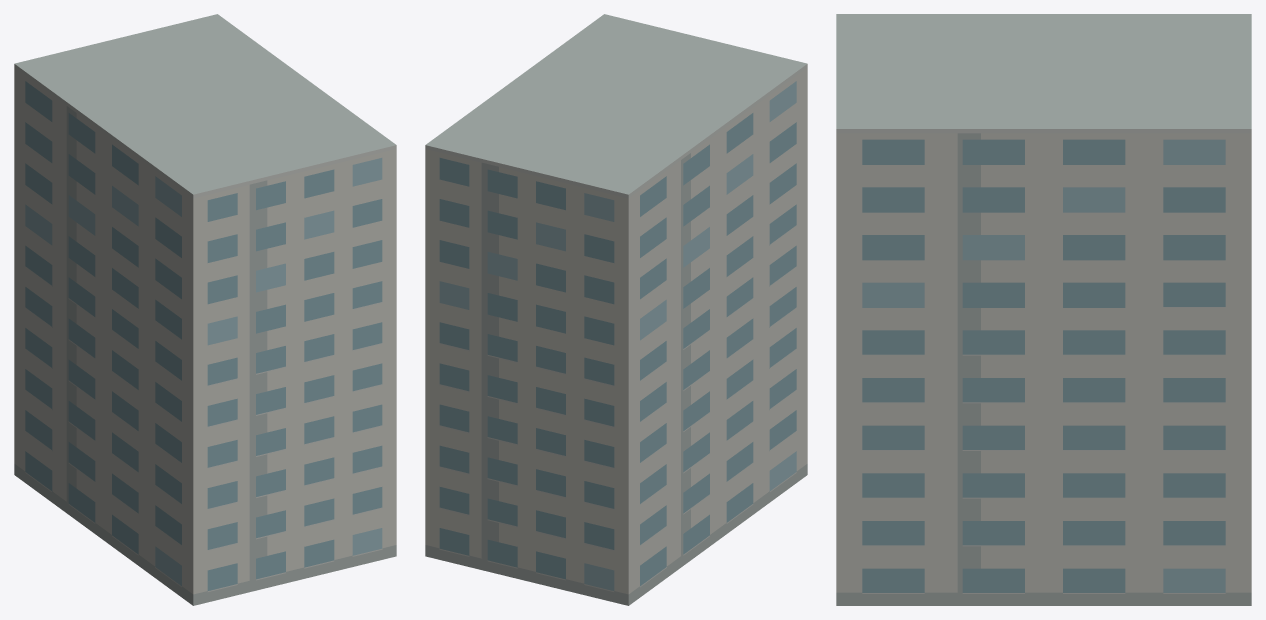
File: residential-73e0be95-605a-46bb-b5a5-0ca4cd1d08d1.glb
3 views of the same model, side by side, from view 1: azimuth 30°, elevation 25°; view 2: azimuth 150°, elevation 25°; view 3: azimuth 270°, elevation 25° (orthographic). The views are drawn at different scales.
Visible parts, largest first — view 1: residential-73e0be95-605a-46bb-b5a5-0ca4cd1d08d1.tmp; view 2: residential-73e0be95-605a-46bb-b5a5-0ca4cd1d08d1.tmp; view 3: residential-73e0be95-605a-46bb-b5a5-0ca4cd1d08d1.tmp.
Part boxes in pixels (bbox=[...]): residential-73e0be95-605a-46bb-b5a5-0ca4cd1d08d1.tmp: bbox=[14, 14, 396, 605]; residential-73e0be95-605a-46bb-b5a5-0ca4cd1d08d1.tmp: bbox=[425, 14, 807, 605]; residential-73e0be95-605a-46bb-b5a5-0ca4cd1d08d1.tmp: bbox=[836, 14, 1251, 605].
Size of the model in its own units: 14 by 27 by 21.33.
